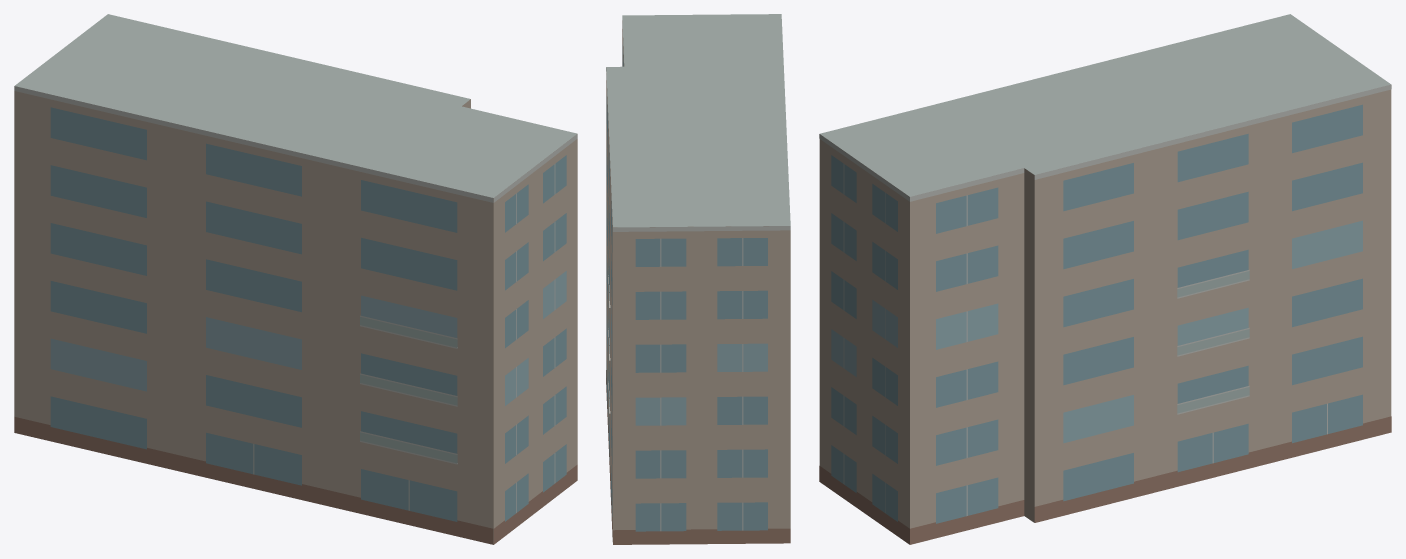
Rendered from survey-upis-32731870.glb.
3 renders of one model, left to right at view 1: azimuth 30°, elevation 25°; view 2: azimuth 150°, elevation 25°; view 3: azimuth 270°, elevation 25°, orthographic. The views are drawn at different scales.
Visible parts, largest first — view 1: survey-upis-32731870.tmp; view 2: survey-upis-32731870.tmp; view 3: survey-upis-32731870.tmp.
Part boxes in pixels (<box>): survey-upis-32731870.tmp: <box>14,14,577,544</box>; survey-upis-32731870.tmp: <box>606,14,790,544</box>; survey-upis-32731870.tmp: <box>819,14,1391,544</box>.
Bounding box in the file's own units: 19.4 × 17.2 × 25.63.
